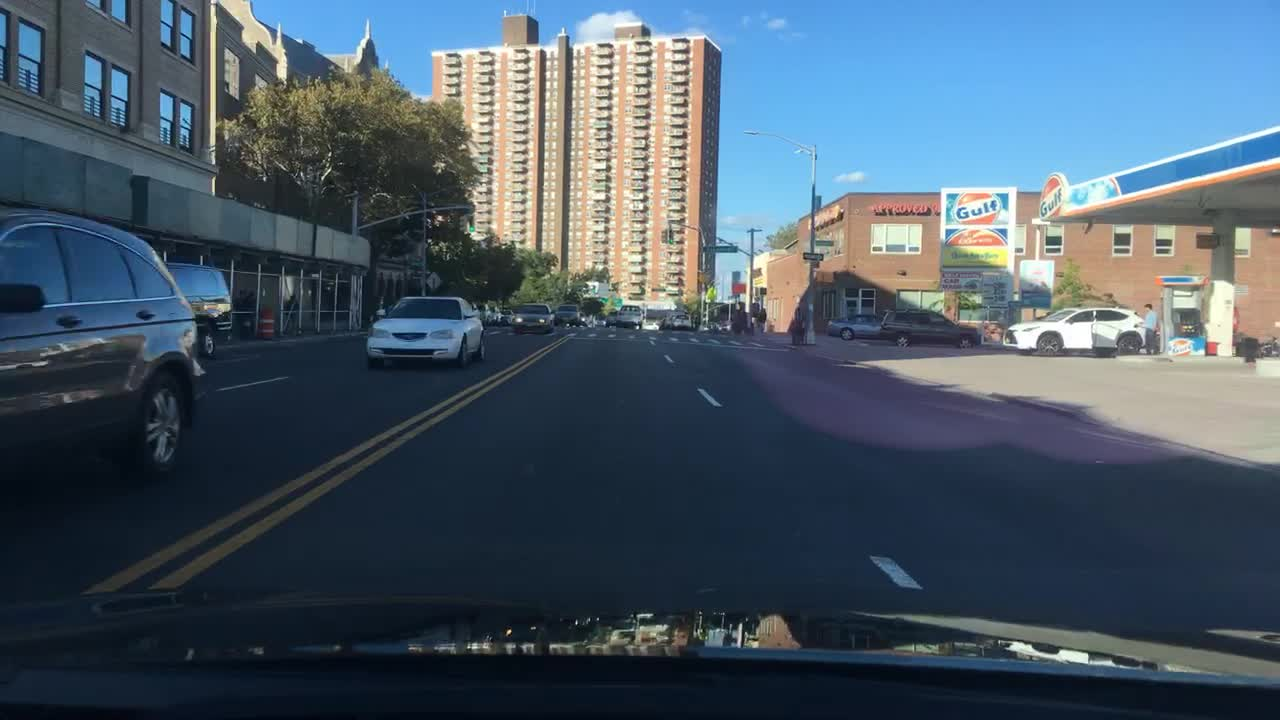car: (0, 207, 213, 492), (361, 292, 491, 374), (1001, 302, 1148, 357), (163, 261, 234, 362), (876, 308, 982, 350), (823, 311, 888, 341), (509, 300, 558, 337), (614, 301, 645, 332), (551, 302, 581, 328), (671, 309, 694, 332), (476, 304, 491, 329), (698, 319, 723, 334), (486, 304, 502, 326), (498, 305, 514, 326), (603, 308, 618, 326), (720, 319, 735, 334), (592, 311, 606, 326), (662, 313, 674, 329), (580, 310, 590, 328), (656, 316, 667, 329)
person: (1140, 299, 1161, 356), (239, 288, 262, 338), (233, 288, 253, 338), (280, 292, 302, 334), (372, 290, 387, 322), (754, 304, 767, 334), (794, 305, 804, 322)
traffic light: (457, 212, 467, 233), (466, 212, 475, 231), (666, 228, 675, 244), (658, 228, 667, 244)
traffic sign: (700, 243, 738, 255), (426, 268, 442, 290), (800, 250, 824, 262), (813, 237, 837, 247), (411, 253, 426, 267), (705, 285, 717, 298), (732, 282, 745, 293), (409, 271, 424, 280)
